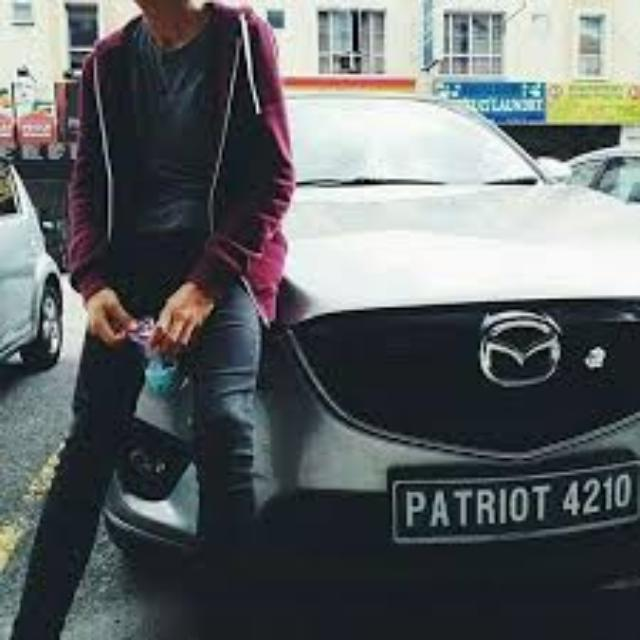License_Plate: (388, 457, 640, 550)
